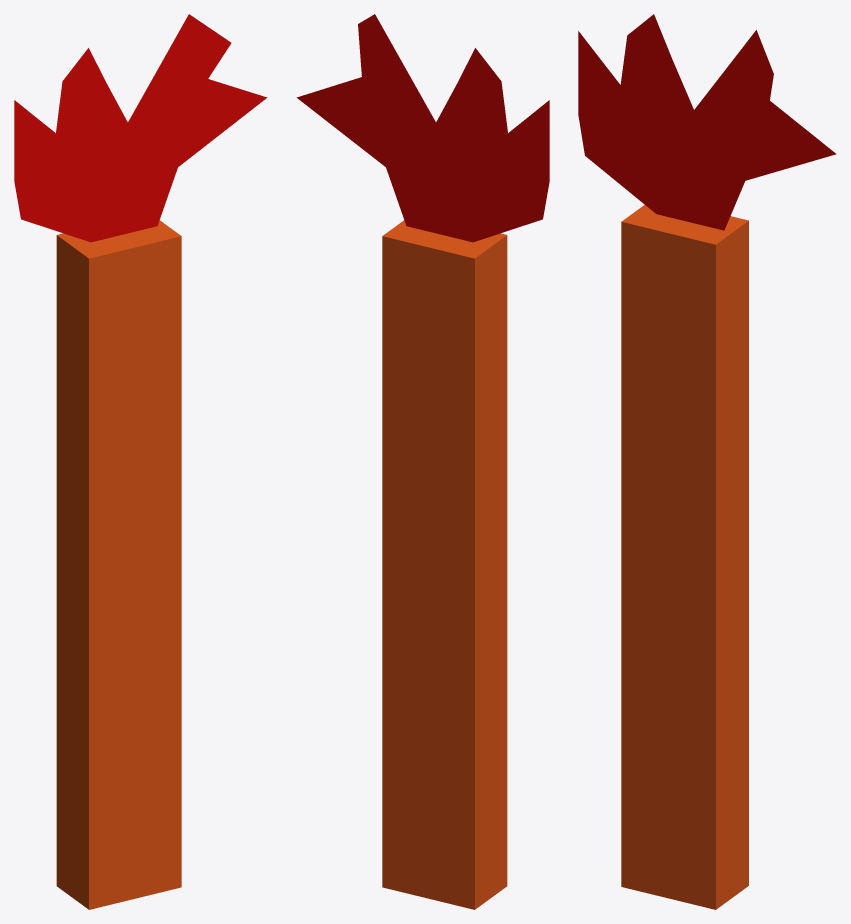
The model's file is torch.fbx.
The picture shows the model from 3 angles, left to right: view 1: azimuth 30°, elevation 25°; view 2: azimuth 150°, elevation 25°; view 3: azimuth 330°, elevation 25°; orthographic projection. The views are drawn at different scales.
Parts seen in each view (by area): view 1: Cube, Cube.001; view 2: Cube, Cube.001; view 3: Cube, Cube.001.
Part boxes in pixels (x1,y1,x2,y2): Cube: (56, 220, 181, 909); Cube.001: (14, 14, 267, 242); Cube: (382, 220, 507, 909); Cube.001: (296, 14, 549, 242); Cube: (621, 205, 748, 909); Cube.001: (578, 14, 836, 230).
Bounding box in the file's own units: 471 × 1523 × 105.
